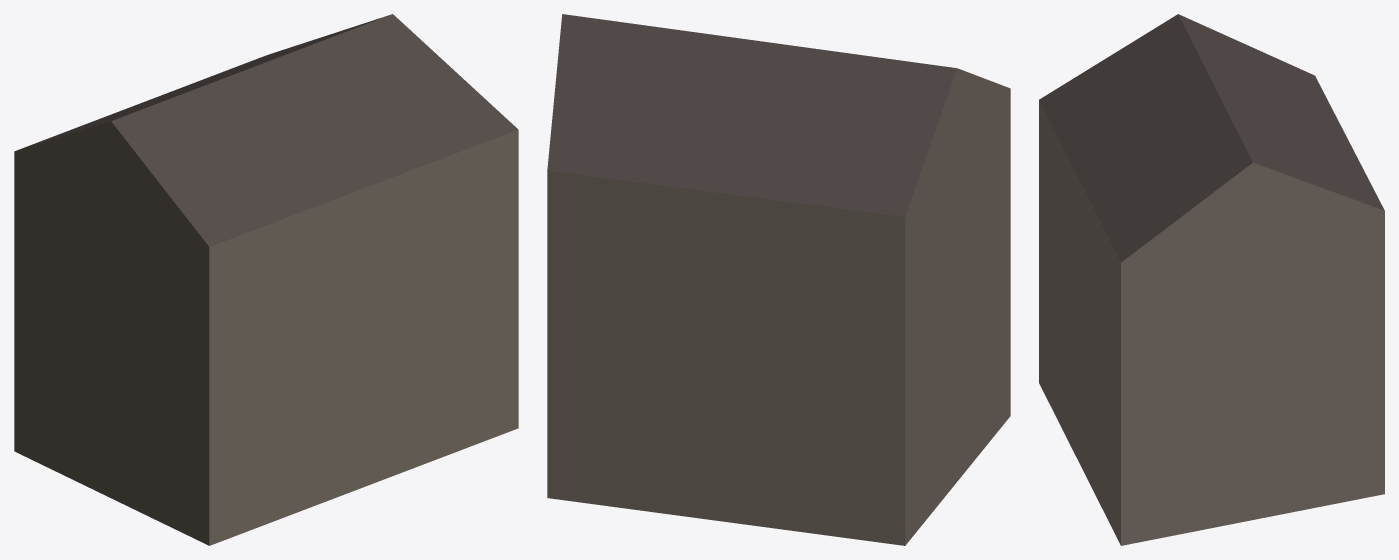
3 views of the same model, side by side, from view 1: azimuth 30°, elevation 25°; view 2: azimuth 150°, elevation 25°; view 3: azimuth 270°, elevation 25° (orthographic). The views are drawn at different scales.
Parts seen in each view (by area): view 1: HP-w1198721573; view 2: HP-w1198721573; view 3: HP-w1198721573.
Boxes of the visible parts, x1,y1,x2,y2 form: HP-w1198721573: (14, 14, 518, 545); HP-w1198721573: (547, 14, 1010, 545); HP-w1198721573: (1039, 14, 1384, 545).
Size of the model in its own units: 8.44 by 7.57 by 6.64.
